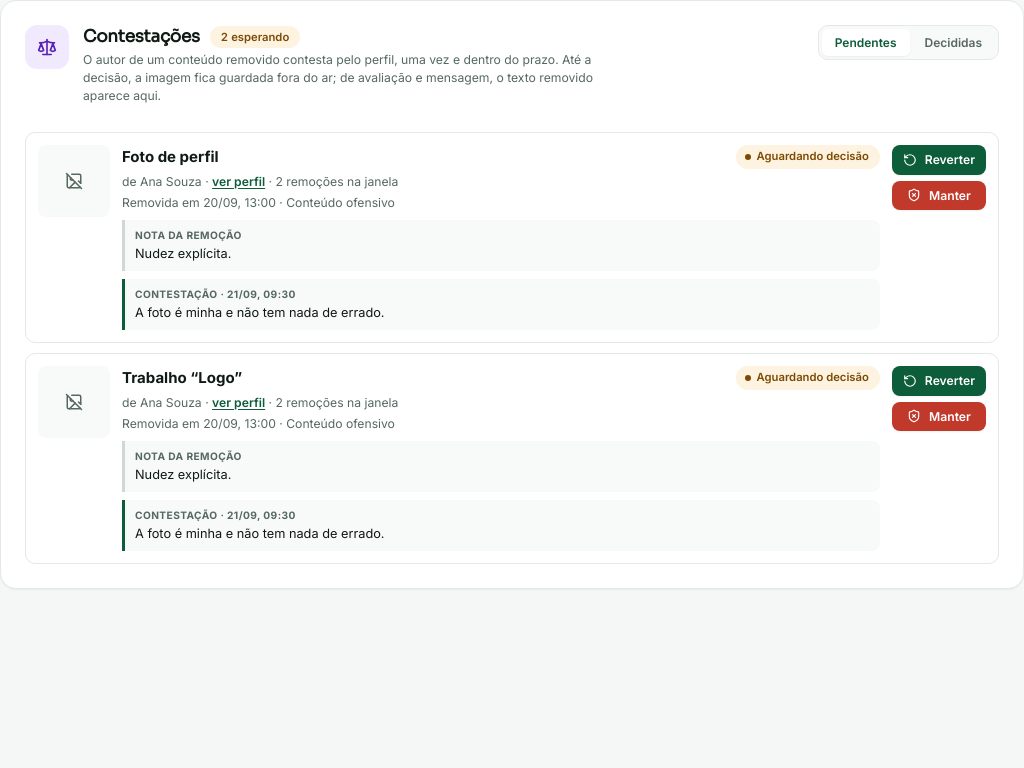
Test: AppealsSection: a decisão › no diálogo, arquivo já apagado (ou que não abre) é dito em texto, sem imagem quebrada
Expected: the text "Trabalho “Logo”" is shown, [122,367,242,389]
Click the 1st button "Manter" at (939, 195), box [892,181,986,210]
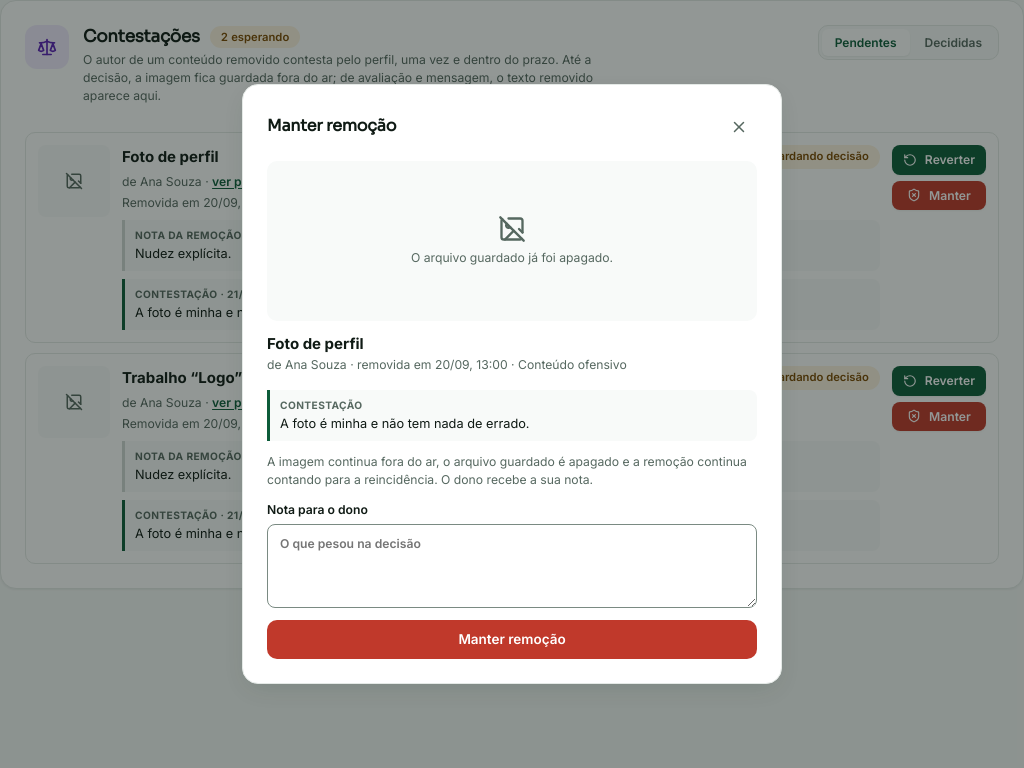
Now the text "O arquivo guardado já foi apagado." is shown, box [411,249,613,267]
Click the button named "Fechar" at (739, 127), box [721,109,757,145]
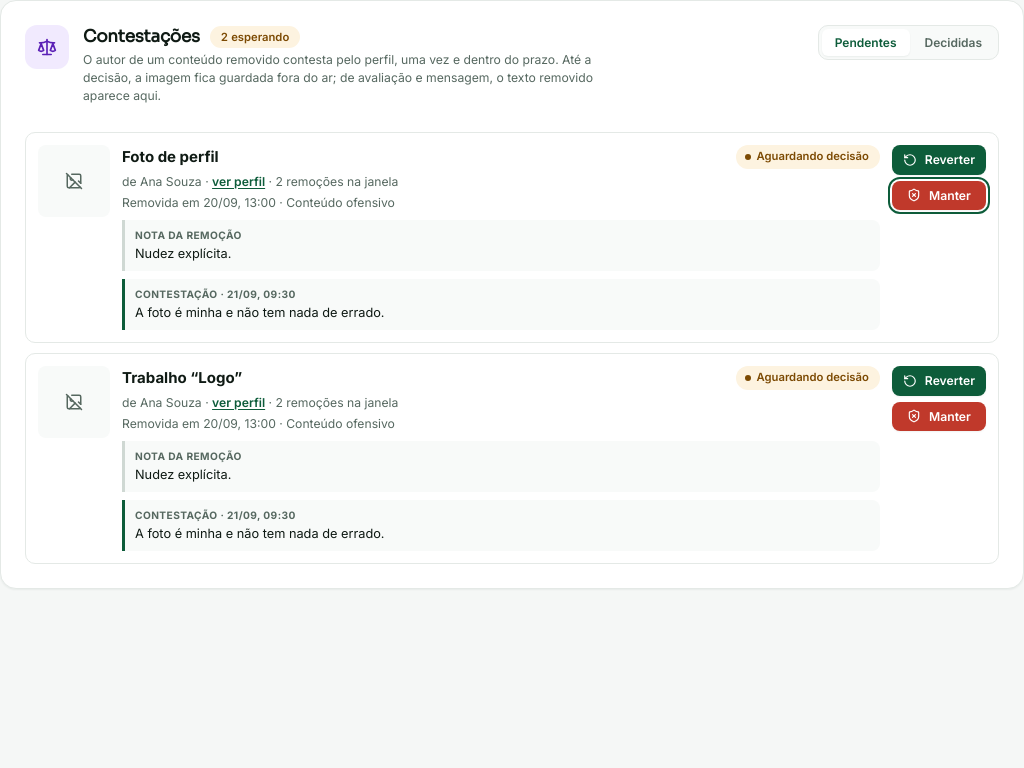
Click the 2nd button "Manter" at (939, 416), box [892,402,986,431]
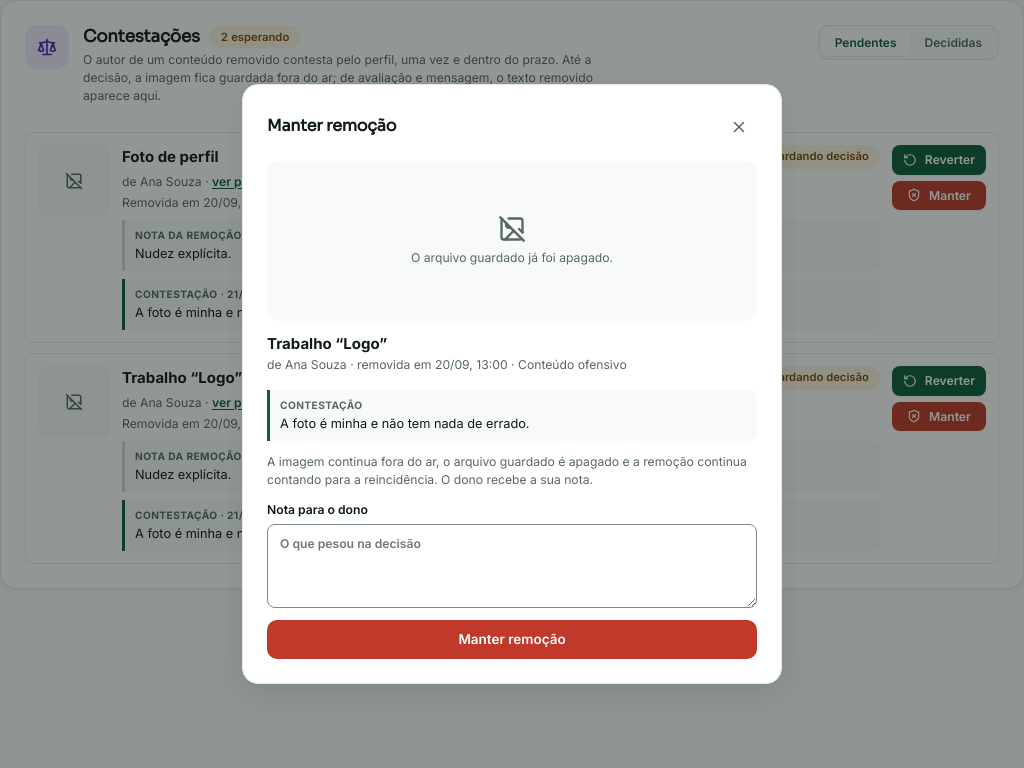
Now the text "O arquivo guardado já foi apagado." is shown, box [411,249,613,267]
